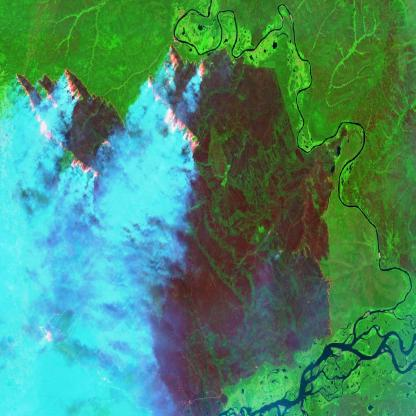fire: (14, 69, 128, 184), (144, 44, 208, 158), (317, 255, 338, 343), (37, 316, 62, 350)
